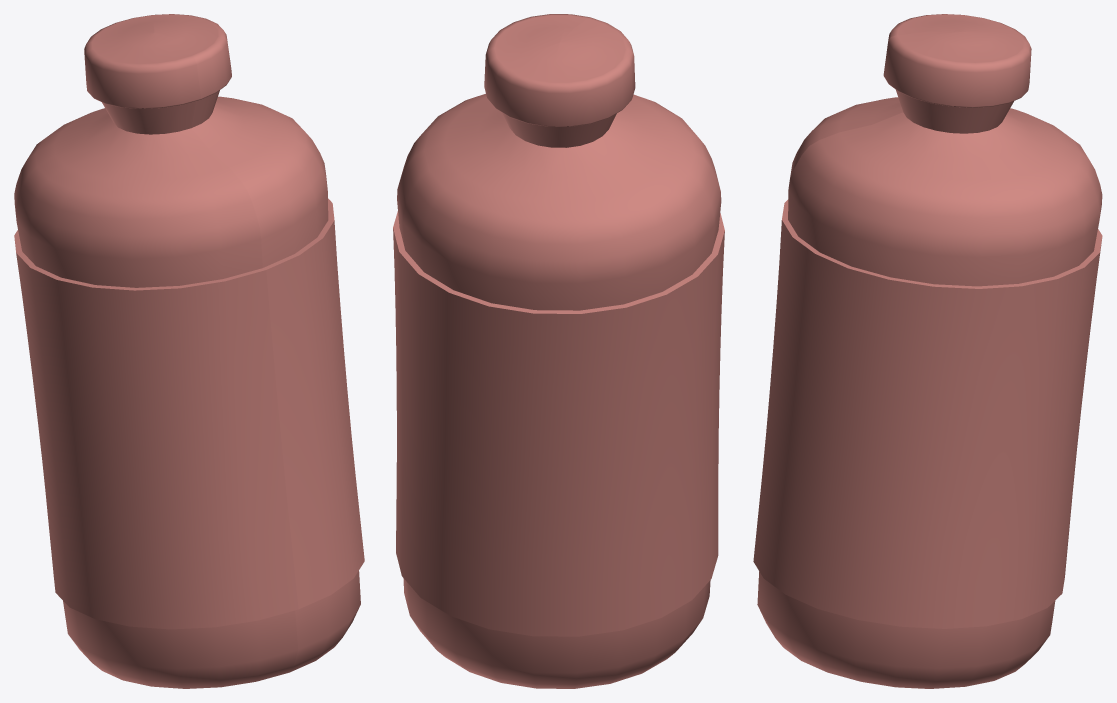
3 renders of one model, left to right at view 1: azimuth 30°, elevation 25°; view 2: azimuth 150°, elevation 25°; view 3: azimuth 270°, elevation 25°, orthographic. The views are drawn at different scales.
Parts seen in each view (by area): view 1: split_parent_0; view 2: split_parent_0; view 3: split_parent_0.
Boxes of the visible parts, left/top/right/bottom form: split_parent_0: left=14, top=14, right=364, bottom=688; split_parent_0: left=393, top=14, right=724, bottom=688; split_parent_0: left=753, top=14, right=1102, bottom=688.
Bounding box in the file's own units: 0.502 × 1 × 0.5176.
